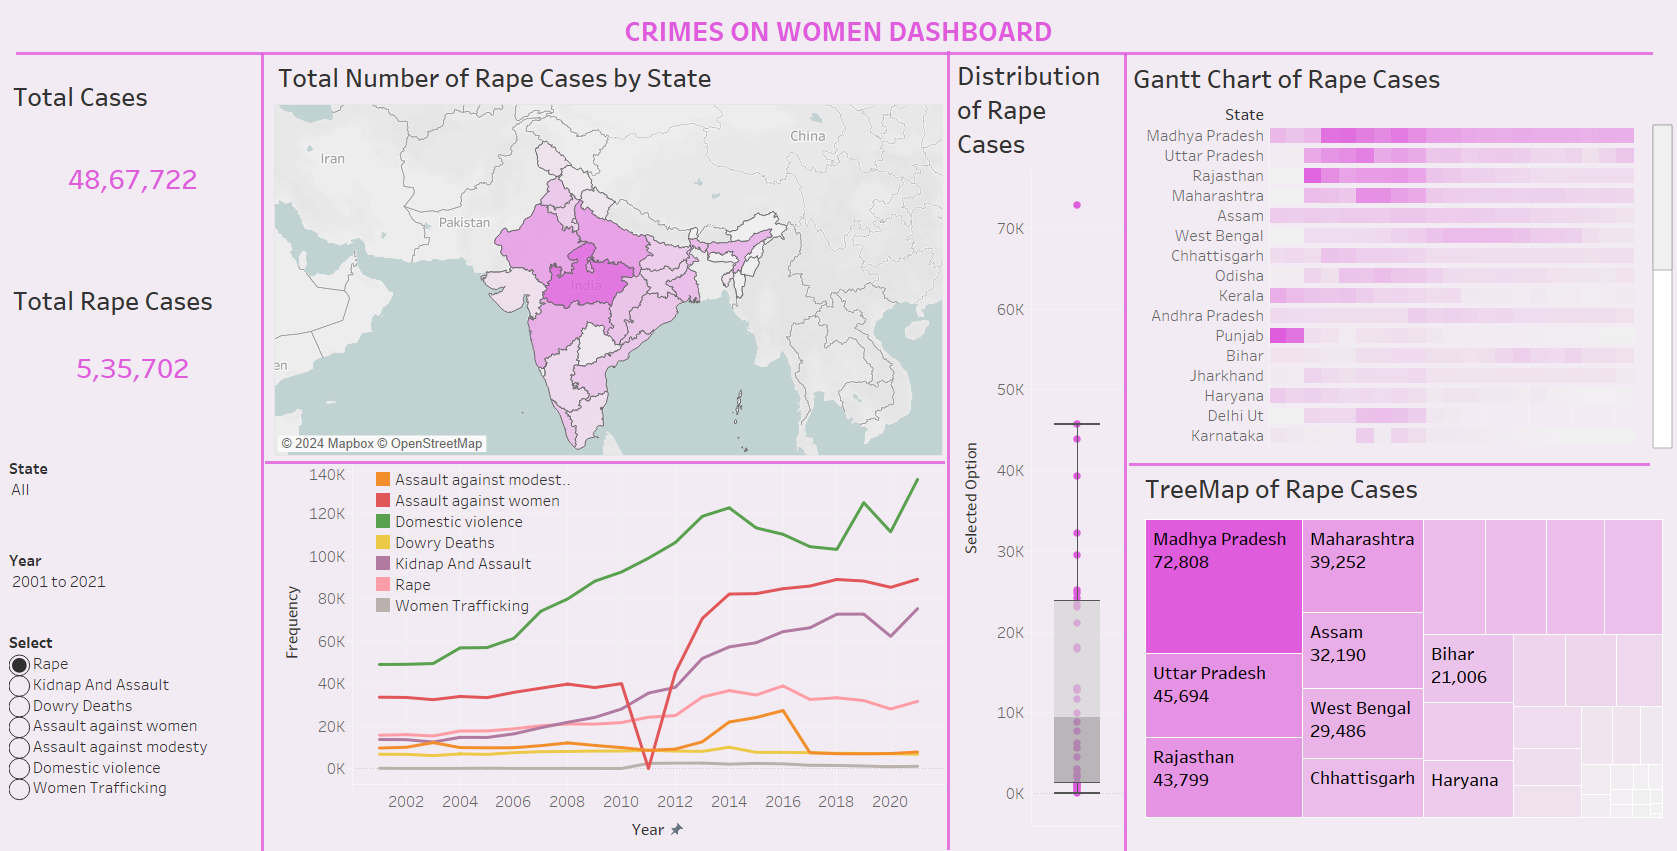

Layout of this report page (visuals, bound fields, positions):
{"tool":"tableau","page":{"name":"Dashboard","canvas":[1000,1000],"units":"permille","ordinal":0},"visuals":[{"type":"title","box":[4.8,9.4,990.5,52.9]},{"type":"blank","box":[564.7,59.9,1.8,938.9]},{"type":"blank","box":[9.5,61.1,976.1,3.5]},{"type":"worksheet","title":"Box-plot","mark":"Circle","rows":["Calculation_309341058194624512"],"box":[568.3,61.1,101.4,909.5]},{"type":"blank","box":[155.6,62.3,1.8,938.9]},{"type":"blank","box":[670.2,62.3,1.8,938.9]},{"type":"worksheet","title":"Map","mark":"Multipolygon","box":[163.4,63.5,398.9,472.4]},{"type":"worksheet","title":"Gantt","mark":"Bar","rows":["State"],"cols":["Year"],"box":[673.2,64.6,324.4,461.8]},{"type":"worksheet","title":"Total Cases","mark":"Automatic","box":[3,81.1,152.7,198.6]},{"type":"blank","box":[3,279.7,152.7,41.1]},{"type":"worksheet","title":"Total","mark":"Automatic","box":[3,320.8,152.7,163.3]},{"type":"blank","box":[3,484.1,152.7,48.2]},{"type":"filter","title":"Map","param":"[federated.076zh270x68xs910cbomj12wj3dl].[none:State:nk]","box":[3,532.3,152.7,108.1]},{"type":"blank","box":[158,541.7,405.5,3.5]},{"type":"worksheet","title":"Line Chart","mark":"Line","cols":["Year"],"box":[163.4,544.1,399.5,451.2]},{"type":"blank","box":[673.2,544.1,310.7,3.5]},{"type":"worksheet","title":"TreeMap","mark":"Automatic","box":[680.4,546.4,313.1,419.5]},{"type":"legend","title":"Line Chart","param":"[federated.076zh270x68xs910cbomj12wj3dl].[:Measure Names]","box":[222.4,551.1,118.7,203.3]},{"type":"filter","title":"Map","param":"[federated.076zh270x68xs910cbomj12wj3dl].[none:Year:qk]","box":[3,640.4,152.7,96.4]},{"type":"parameter","param":"[Parameters].[Parameter 1]","box":[3,736.8,152.7,257.3]}]}

Visuals, with their boxes on the dashboard's canvas, which has no fixed pixel size, in thousandths of its width and height (x1, y1, x2, y2). These are canvas units, not pixel positions in the 1677x851 screenshot, which may show the page scaled, cropped or inside an application window:
title: region(5, 9, 995, 62)
blank: region(565, 60, 566, 999)
blank: region(10, 61, 986, 65)
"Box-plot" worksheet (Circle marks): region(568, 61, 670, 971)
blank: region(156, 62, 157, 1001)
blank: region(670, 62, 672, 1001)
"Map" worksheet (Multipolygon marks): region(163, 64, 562, 536)
"Gantt" worksheet (Bar marks): region(673, 65, 998, 526)
"Total Cases" worksheet: region(3, 81, 156, 280)
blank: region(3, 280, 156, 321)
"Total" worksheet: region(3, 321, 156, 484)
blank: region(3, 484, 156, 532)
"Map" filter: region(3, 532, 156, 640)
blank: region(158, 542, 564, 545)
"Line Chart" worksheet (Line marks): region(163, 544, 563, 995)
blank: region(673, 544, 984, 548)
"TreeMap" worksheet: region(680, 546, 994, 966)
"Line Chart" legend: region(222, 551, 341, 754)
"Map" filter: region(3, 640, 156, 737)
parameter: region(3, 737, 156, 994)
